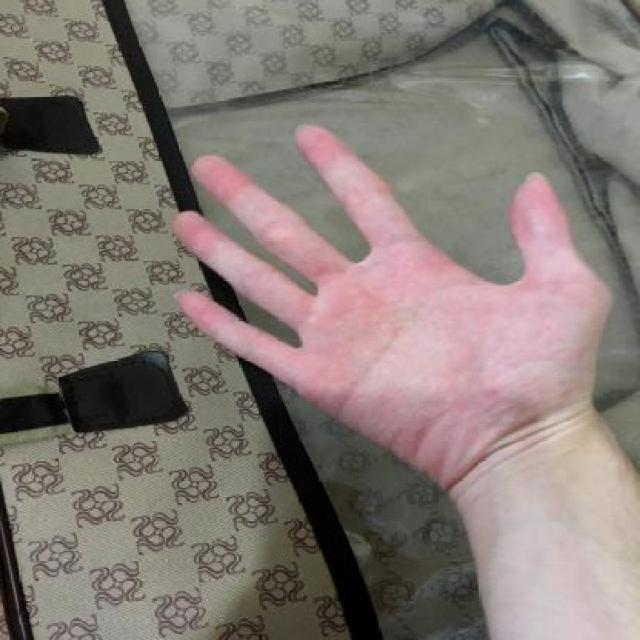no_glove: (160, 116, 623, 490)
